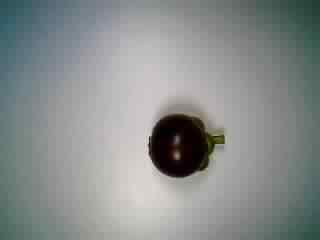mangosteen: (146, 104, 225, 182)
